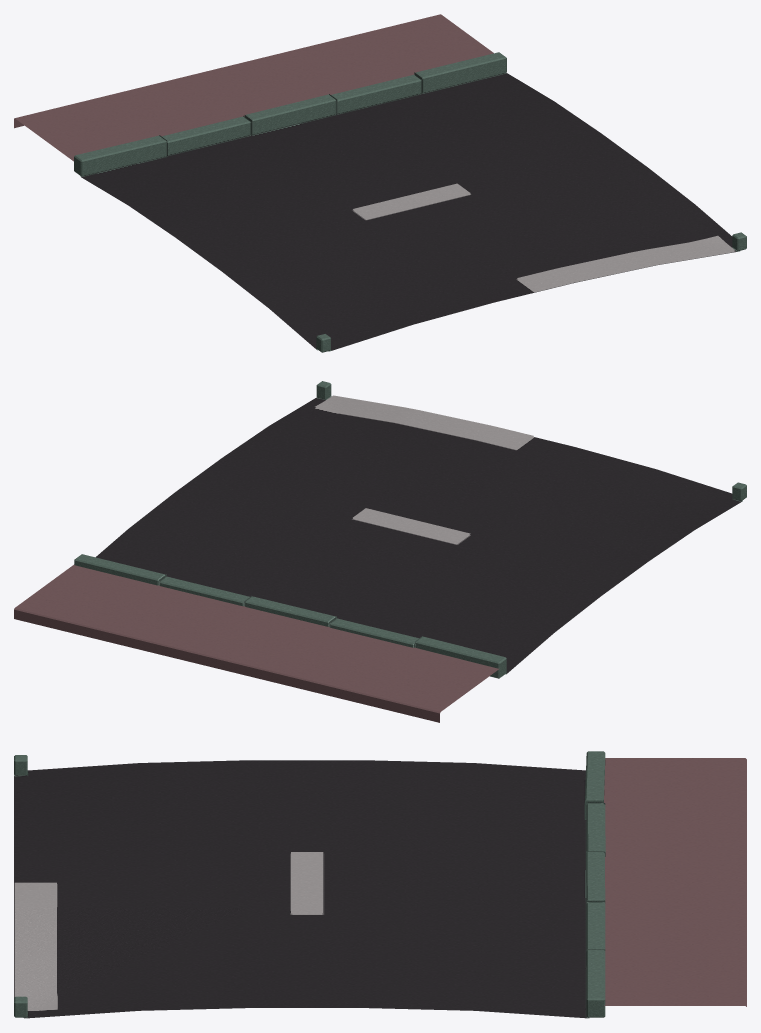
The model's file is road_intersection_LOD0.fbx.
The picture shows the model from 3 angles, top to bottom: view 1: azimuth 30°, elevation 25°; view 2: azimuth 150°, elevation 25°; view 3: azimuth 270°, elevation 25°; orthographic projection. The views are drawn at different scales.
Parts seen in each view (by area): view 1: road_intersection_LOD0; view 2: road_intersection_LOD0; view 3: road_intersection_LOD0.
Part boxes in pixels (left/top/right/bottom): road_intersection_LOD0: left=14, top=14, right=746, bottom=352; road_intersection_LOD0: left=14, top=381, right=746, bottom=722; road_intersection_LOD0: left=14, top=751, right=746, bottom=1018.
Bounding box in the file's own units: 800 × 29.81 × 1000.
